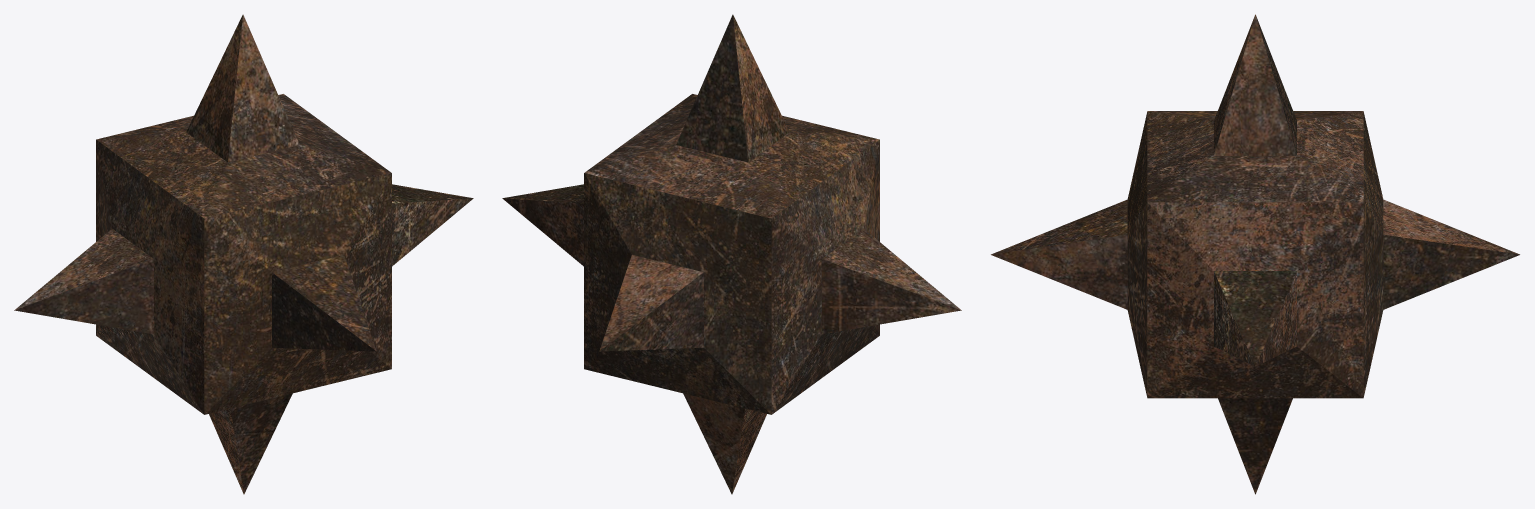
Rendered from peligroso.fbx.
The picture shows the model from 3 angles, left to right: view 1: azimuth 30°, elevation 25°; view 2: azimuth 150°, elevation 25°; view 3: azimuth 270°, elevation 25°; orthographic projection.
Parts seen in each view (by area): view 1: Cube; view 2: Cube; view 3: Cube.
Part boxes in pixels (<box>): Cube: <box>14,14,473,494</box>; Cube: <box>502,14,961,494</box>; Cube: <box>991,14,1519,494</box>.
Size of the model in its own units: 717 by 717 by 717.
1 material, 1 textured.
